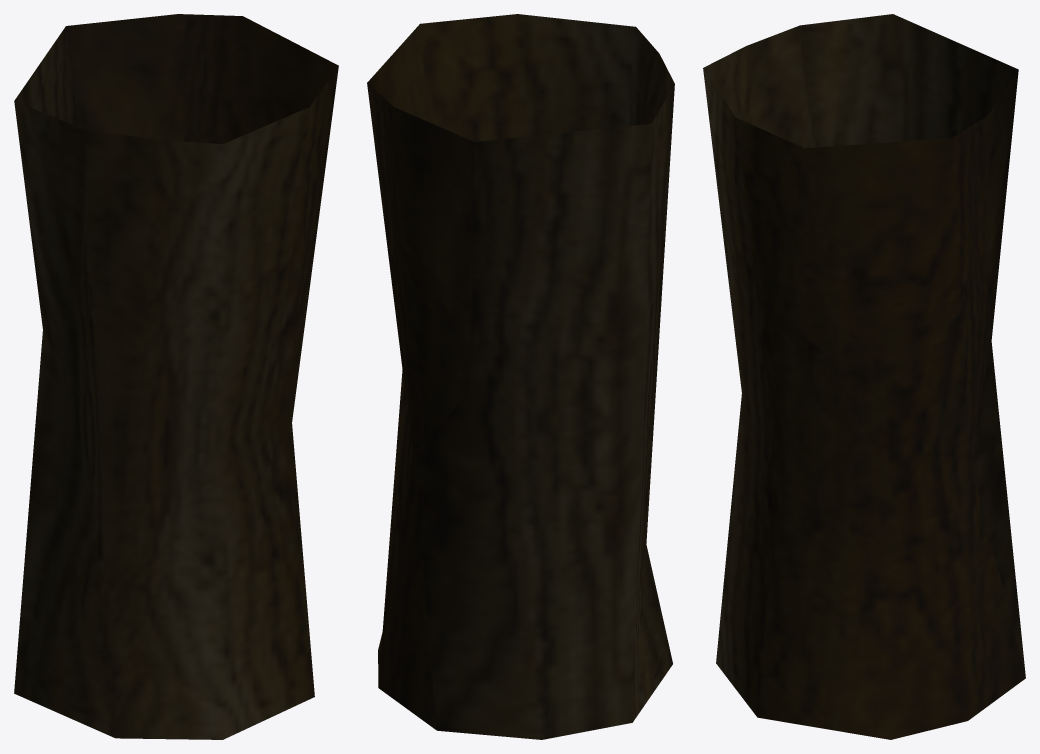
The model's file is Big_Trunk_1.fbx.
The picture shows the model from 3 angles, left to right: view 1: azimuth 30°, elevation 25°; view 2: azimuth 150°, elevation 25°; view 3: azimuth 270°, elevation 25°; orthographic projection.
Visible parts, largest first — view 1: Big tree; view 2: Big tree; view 3: Big tree.
Part boxes in pixels (box(x1,y1,x2,y2)): Big tree: box(14, 14, 338, 739); Big tree: box(367, 14, 674, 739); Big tree: box(703, 14, 1025, 739).
Bounding box in the file's own units: 5846 × 12026 × 5941.
